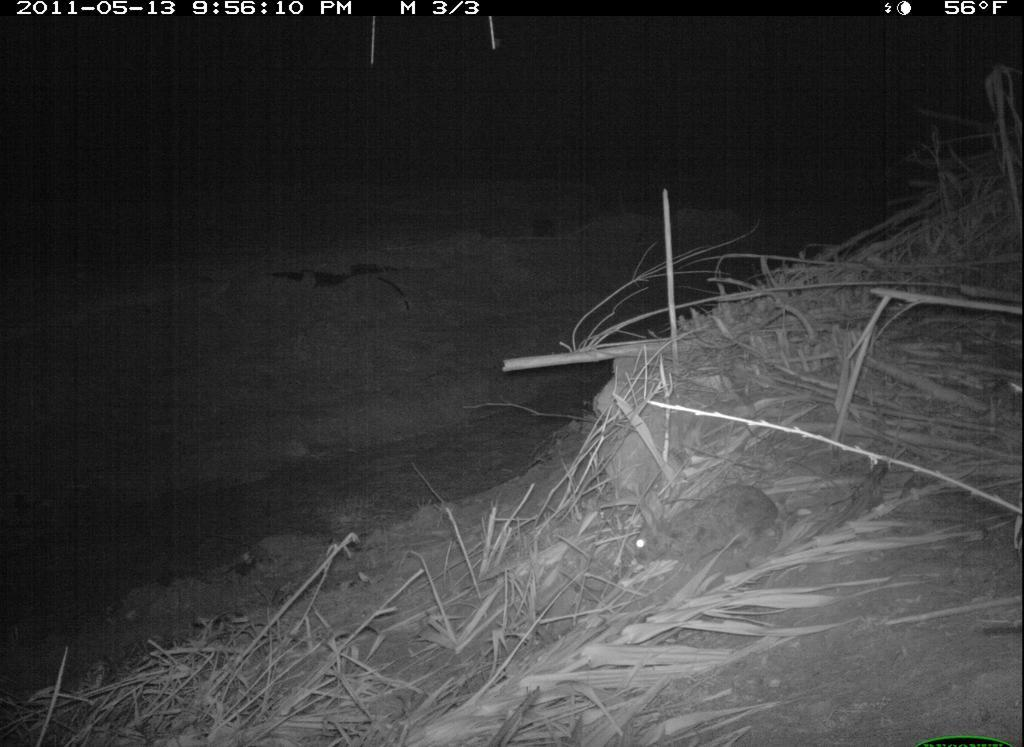rabbit: (614, 482, 802, 589)
